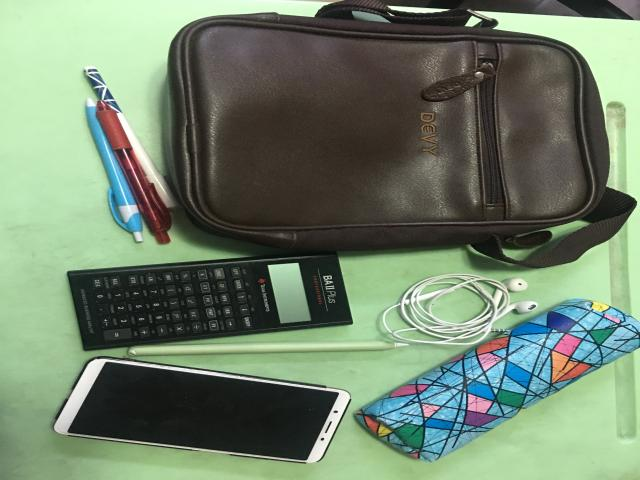Mobile phone: (55, 356, 350, 463)
Pen: (86, 70, 174, 245)
wire: (383, 274, 537, 345)
